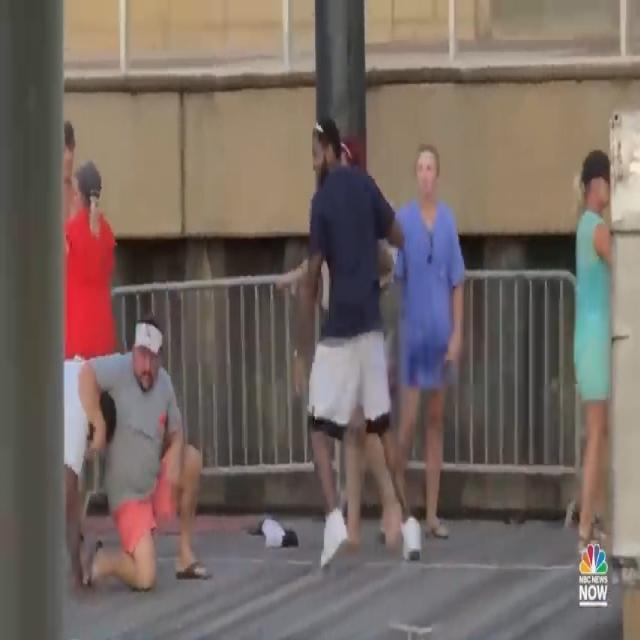fight: (59, 307, 214, 617)
non-fight: (275, 100, 474, 585)
